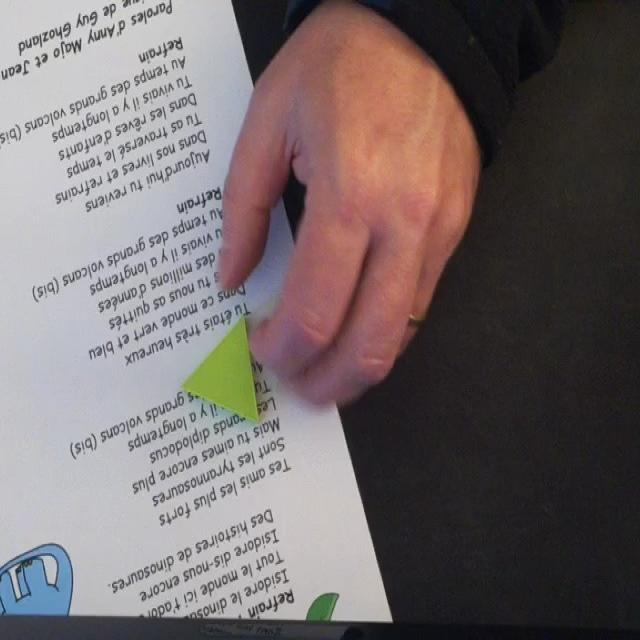triangle: (183, 314, 261, 426)
